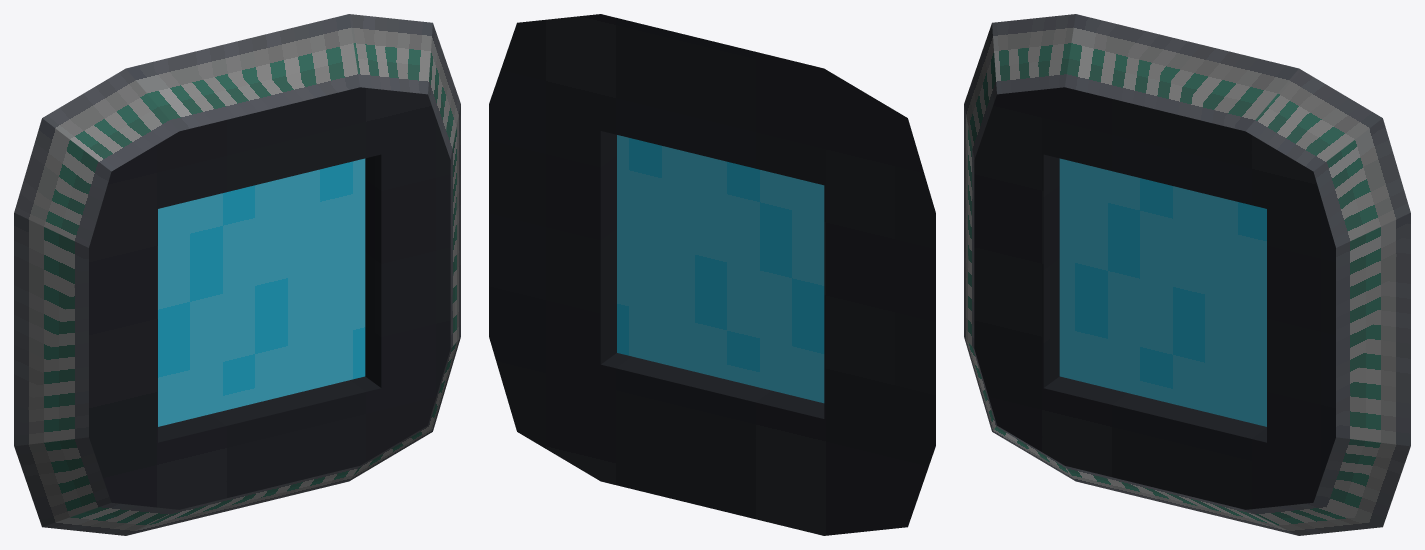
The model's file is lens.obj.
3 views of the same model, side by side, from view 1: azimuth 30°, elevation 25°; view 2: azimuth 150°, elevation 25°; view 3: azimuth 330°, elevation 25° (orthographic).
Visible parts, largest first — view 1: Cube_Cube.002; view 2: Cube_Cube.002; view 3: Cube_Cube.002.
Part boxes in pixels (x1,y1,x2,y2): Cube_Cube.002: (14, 14, 460, 535); Cube_Cube.002: (489, 14, 935, 535); Cube_Cube.002: (964, 14, 1410, 535).
Size of the model in its own units: 0.72 by 0.72 by 0.09.
